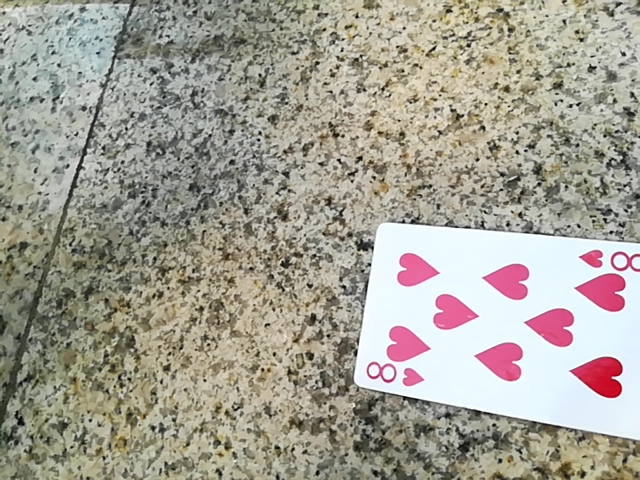hx 8: (322, 240, 633, 464)
